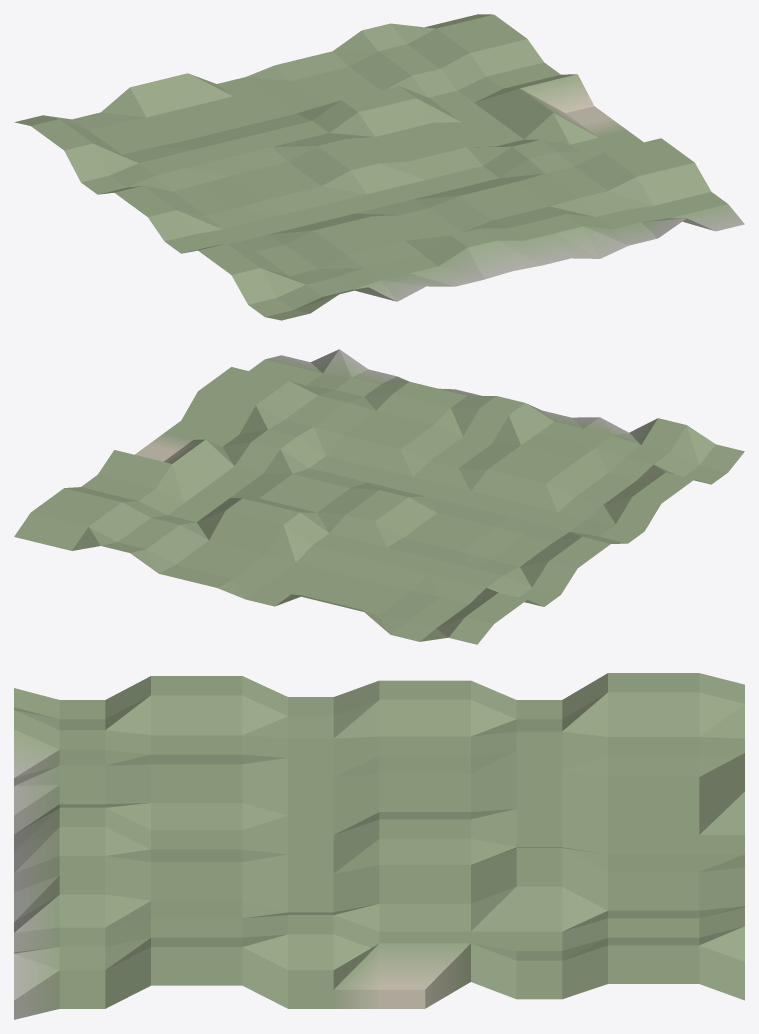
3 views of the same model, one above another, from view 1: azimuth 30°, elevation 25°; view 2: azimuth 150°, elevation 25°; view 3: azimuth 270°, elevation 25° (orthographic). The views are drawn at different scales.
Bounding box in the file's own units: 32 × 1.91 × 32.
